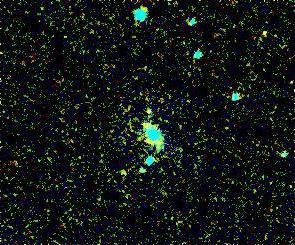star: (109, 159, 139, 189)
